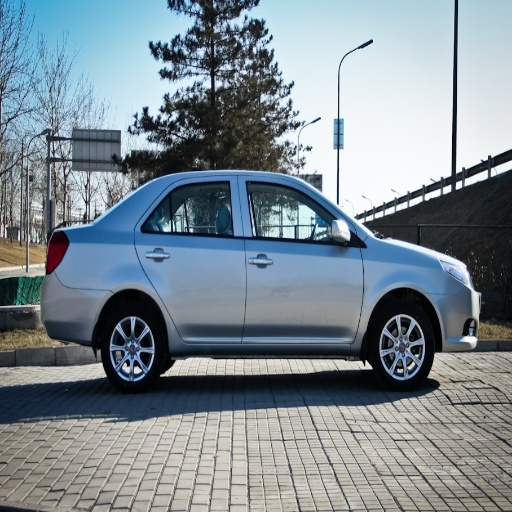back_right_door: (135, 175, 246, 342)
front_right_door: (240, 176, 363, 342)
